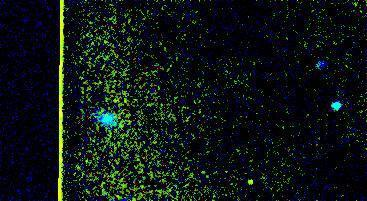star: (239, 164, 269, 194)
